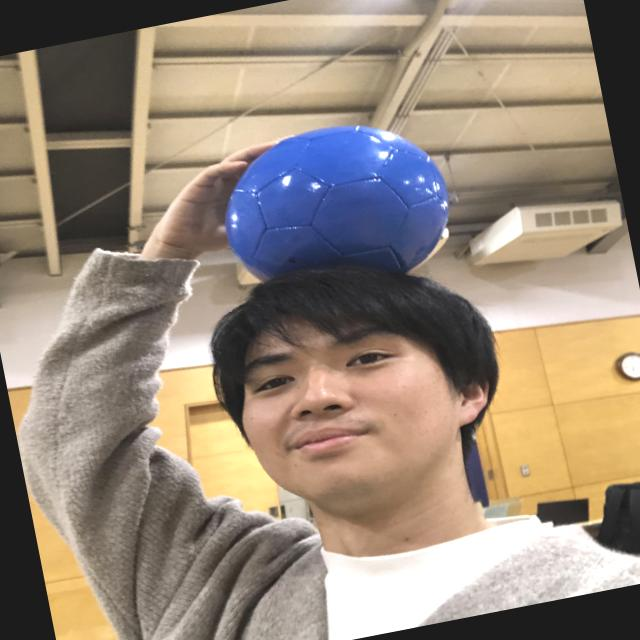blue_ball: (214, 105, 467, 316)
